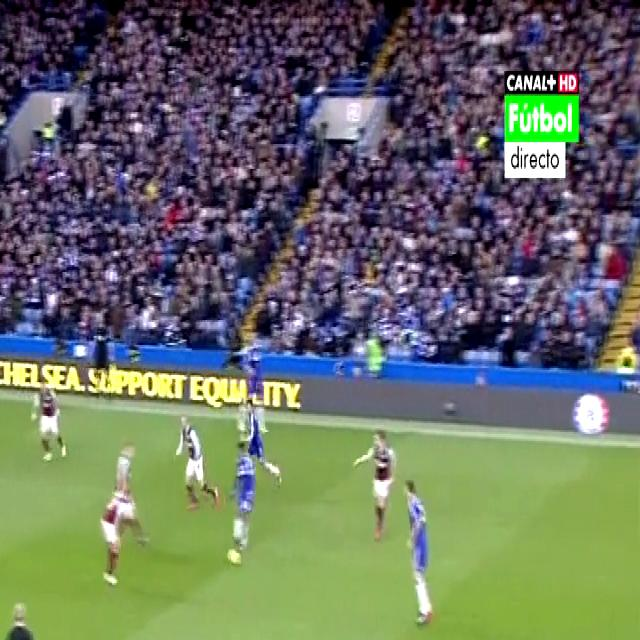referee: (85, 308, 124, 399), (0, 585, 43, 640)
soccer-player: (399, 470, 437, 631), (358, 412, 400, 550), (168, 401, 216, 518), (92, 481, 136, 594), (106, 430, 145, 546), (228, 439, 262, 561), (28, 372, 68, 468), (242, 392, 278, 491)
